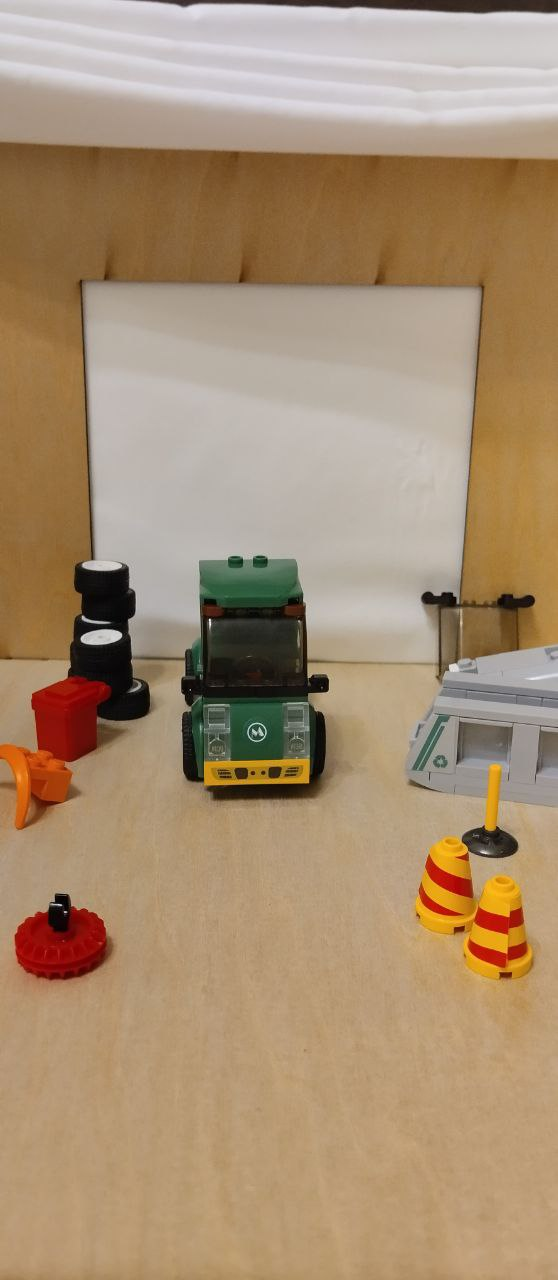Cone: (469, 880, 542, 991), (414, 831, 469, 934)
Truck: (171, 552, 341, 803), (27, 663, 117, 768)
